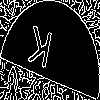K: (25, 25, 54, 78)
